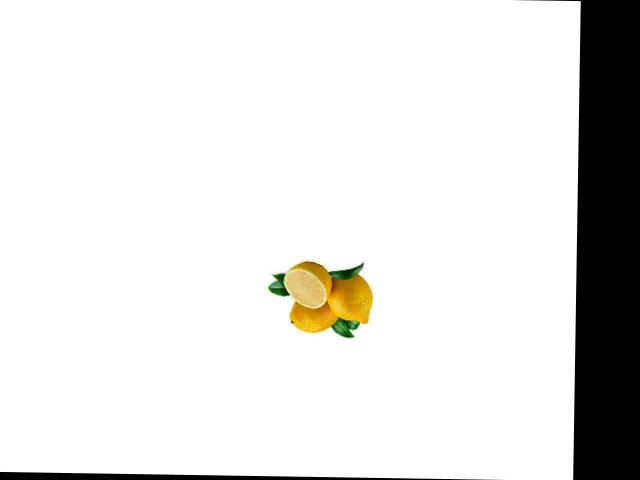lemon: (324, 267, 376, 330)
